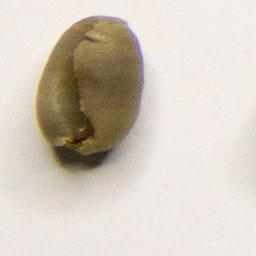peaberry: (30, 11, 148, 160)
